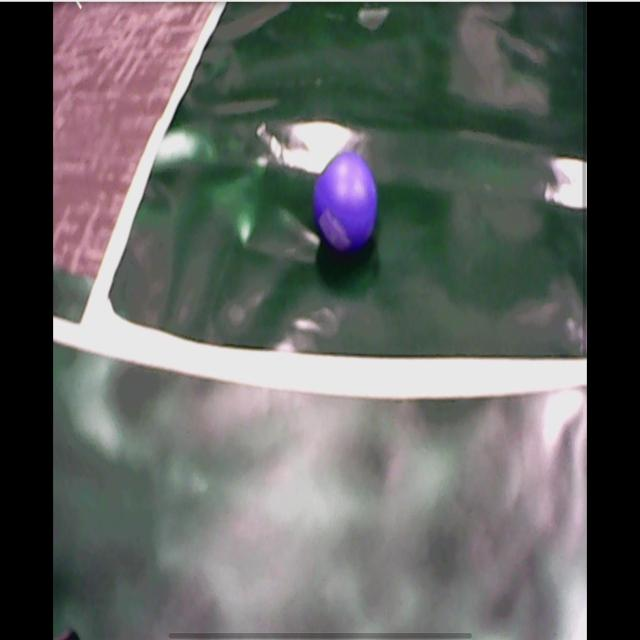ball: (314, 153, 378, 255)
